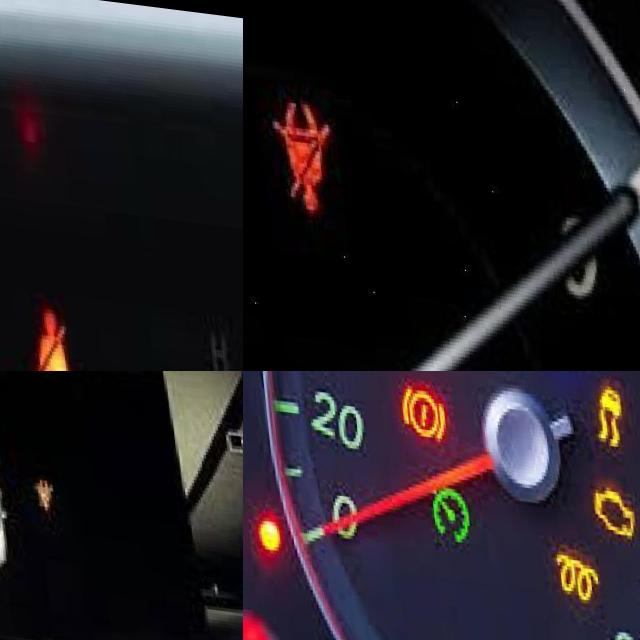Seat Belt: (266, 92, 331, 211), (17, 299, 68, 371), (27, 469, 49, 501)
